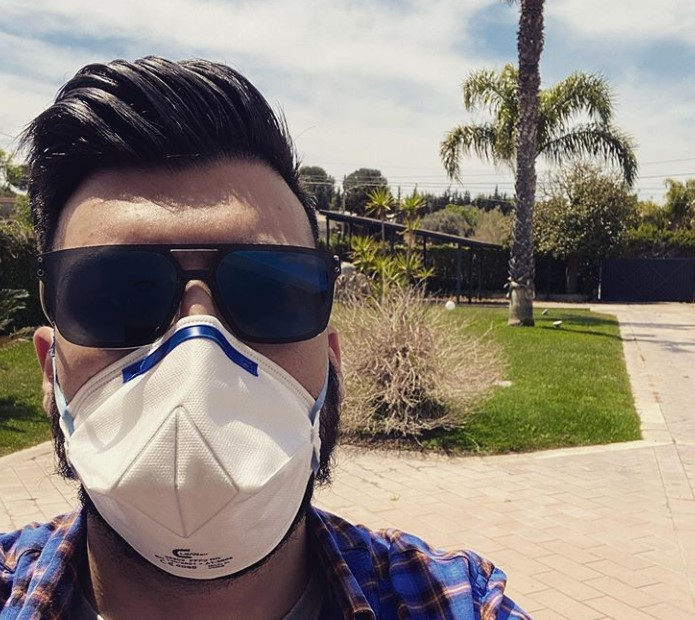face_with_mask: (31, 103, 348, 587)
